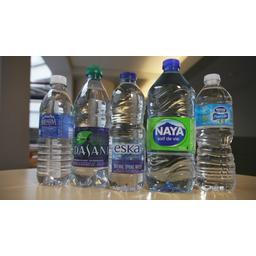plastic: (142, 50, 204, 193), (191, 66, 241, 198), (73, 61, 114, 189), (105, 66, 149, 185), (40, 73, 77, 192)
